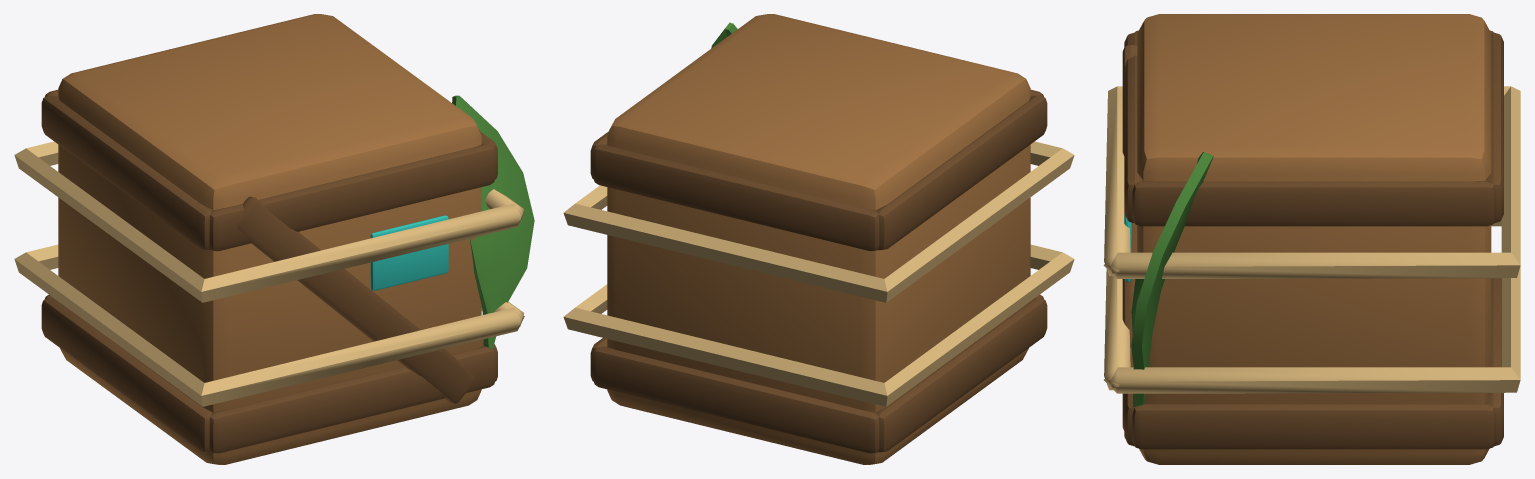
File: W2_Crate_A.fbx
3 renders of one model, left to right at view 1: azimuth 30°, elevation 25°; view 2: azimuth 150°, elevation 25°; view 3: azimuth 270°, elevation 25°, orthographic. The views are drawn at different scales.
Parts seen in each view (by area): view 1: W2_Crate_A; view 2: W2_Crate_A; view 3: W2_Crate_A.
Boxes of the visible parts, box(x1,y1,x2,y2) form: W2_Crate_A: box(14, 14, 534, 464); W2_Crate_A: box(563, 14, 1074, 464); W2_Crate_A: box(1103, 14, 1520, 464).
Bounding box in the file's own units: 1.25 × 1.01 × 1.19.
